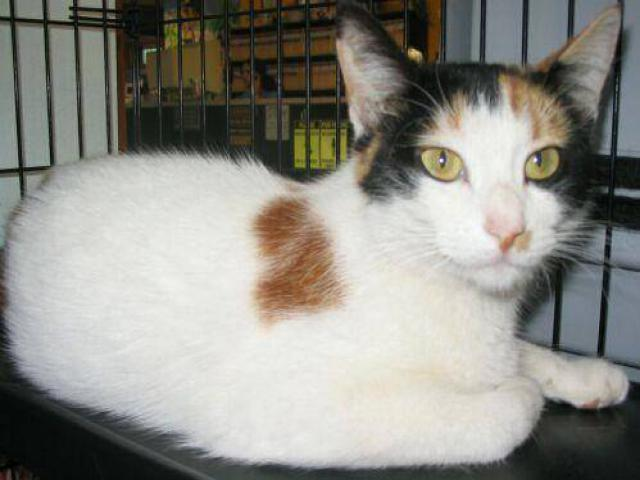cat: (4, 5, 635, 468)
